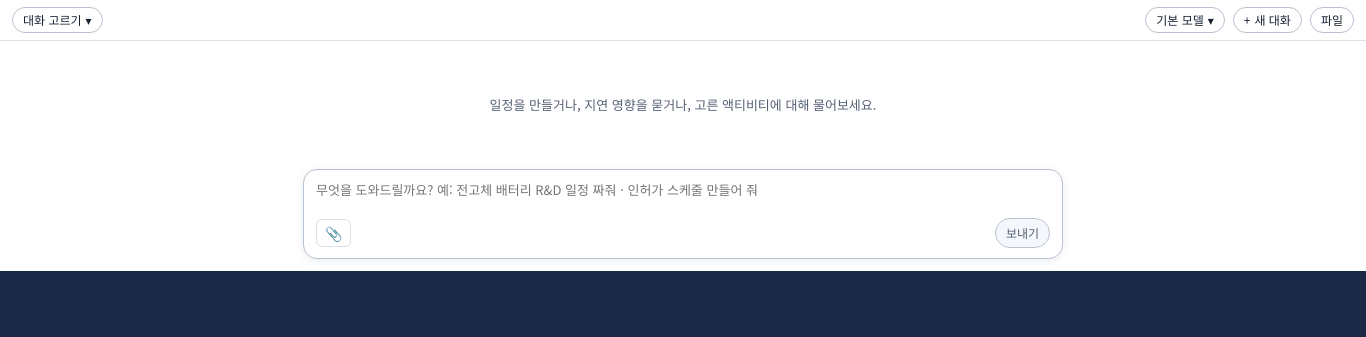
Test: 지시서 시험 (실제 사건 모양) › tool steps collapse into one line
Type "q" into the text box named "에이전트에게 요청" at coordinates (683, 199), box x1=316 y1=180 x2=1050 y2=218
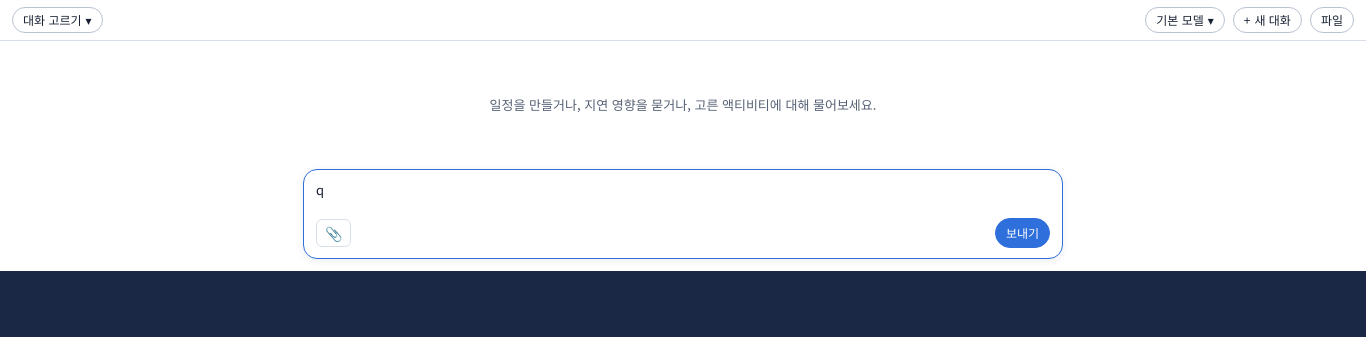
Click the button "보내기" at coordinates (1022, 233), box x1=995 y1=218 x2=1050 y2=248
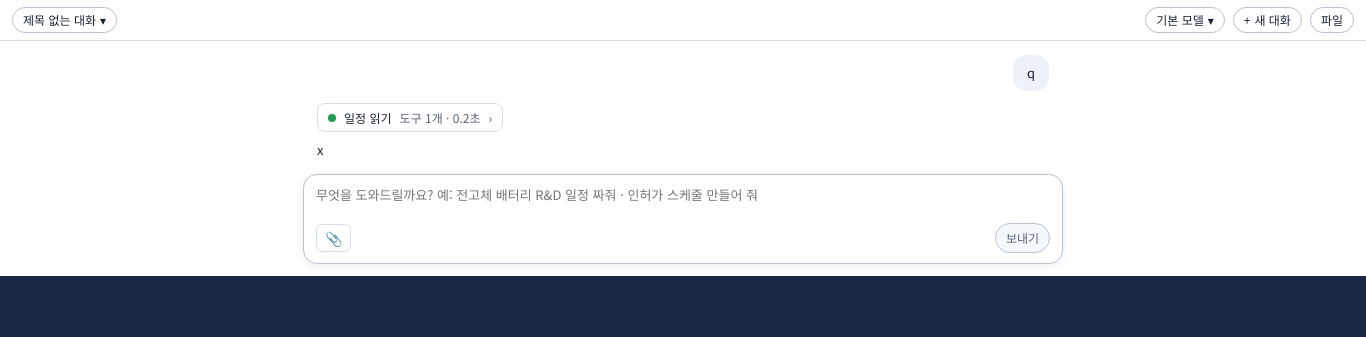
Now the button "일정 읽기 도구 1개 · 0.2초 ›" is shown
Click the button "일정 읽기 도구 1개 · 0.2초 ›" at coordinates (410, 118), box x1=317 y1=103 x2=503 y2=132
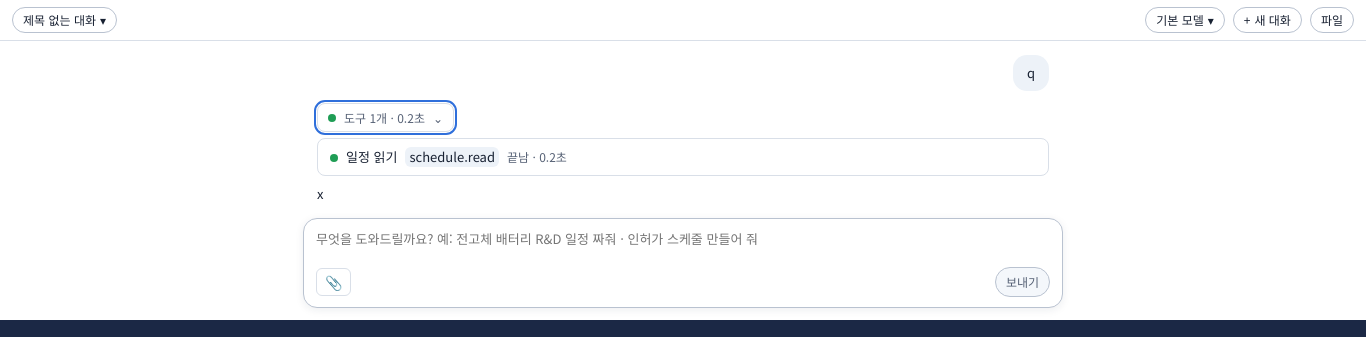
Now the text "일정 읽기" is shown, box x1=346 y1=147 x2=398 y2=167
Now the text "schedule.read" is shown, box x1=406 y1=147 x2=499 y2=167
